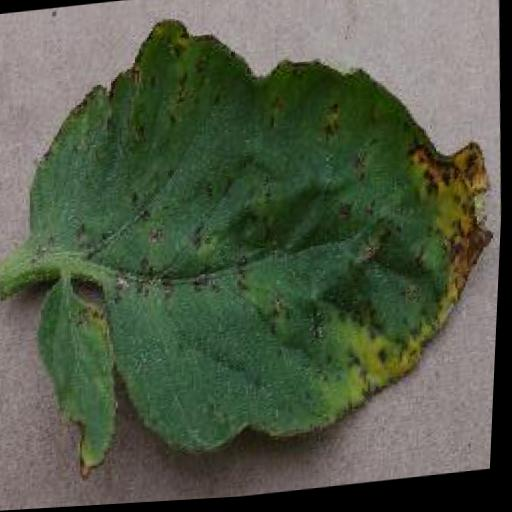Bacterial Spot: (10, 0, 512, 491)
